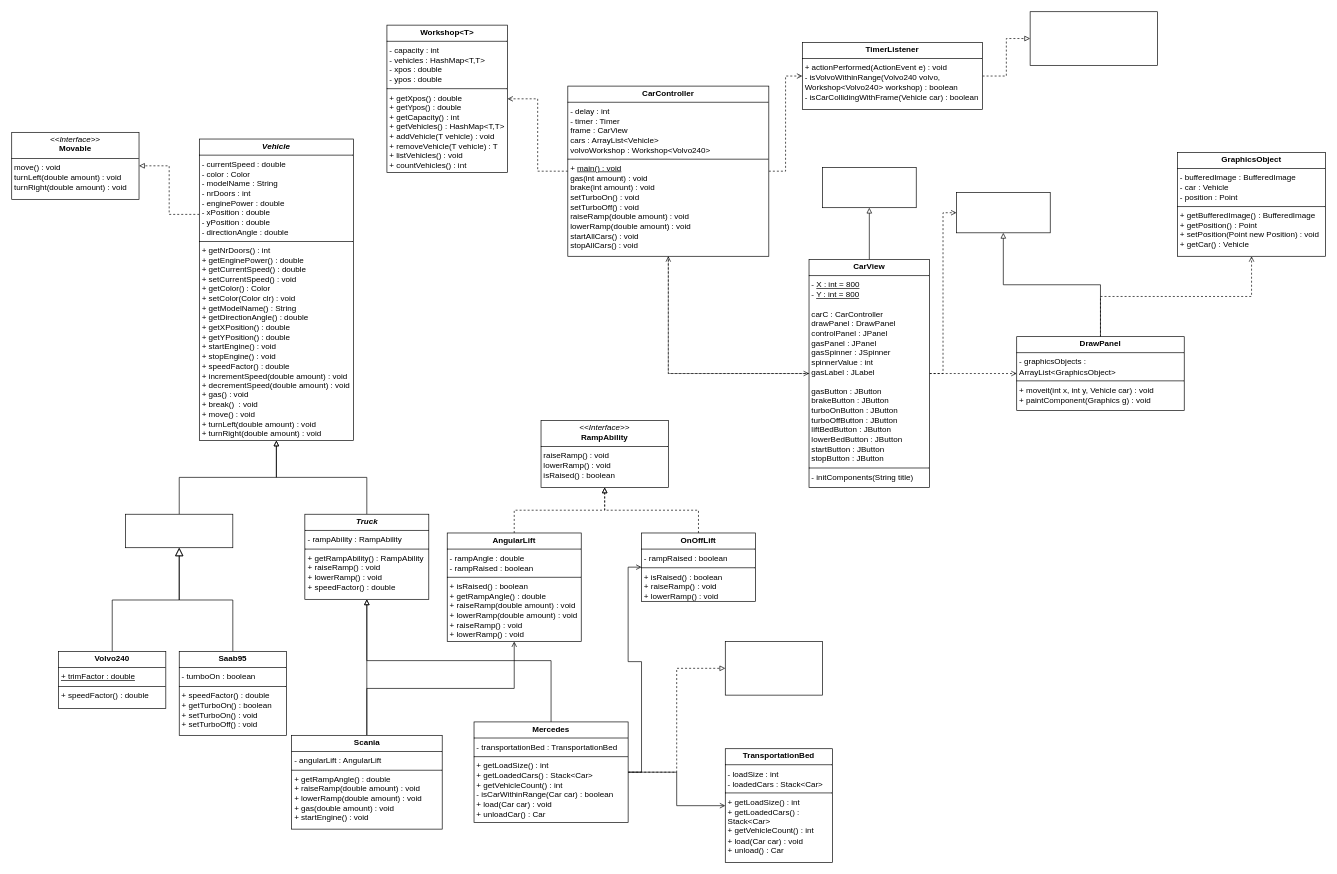
This 1337x874 diagram has some shape labels left out. The shapes that lost their labels are listed below. From the top down, each one's centre as x and y in pixels, then its label:
At point 1093,38: "<<Interface>> ActionListener".
At point 869,187: "JFrame".
At point 1003,212: "JPanel".
At point 179,531: "Car".
At point 773,668: "<<Interface>> Loadable loadCar(Car car) : void unloadCar() : Car".
